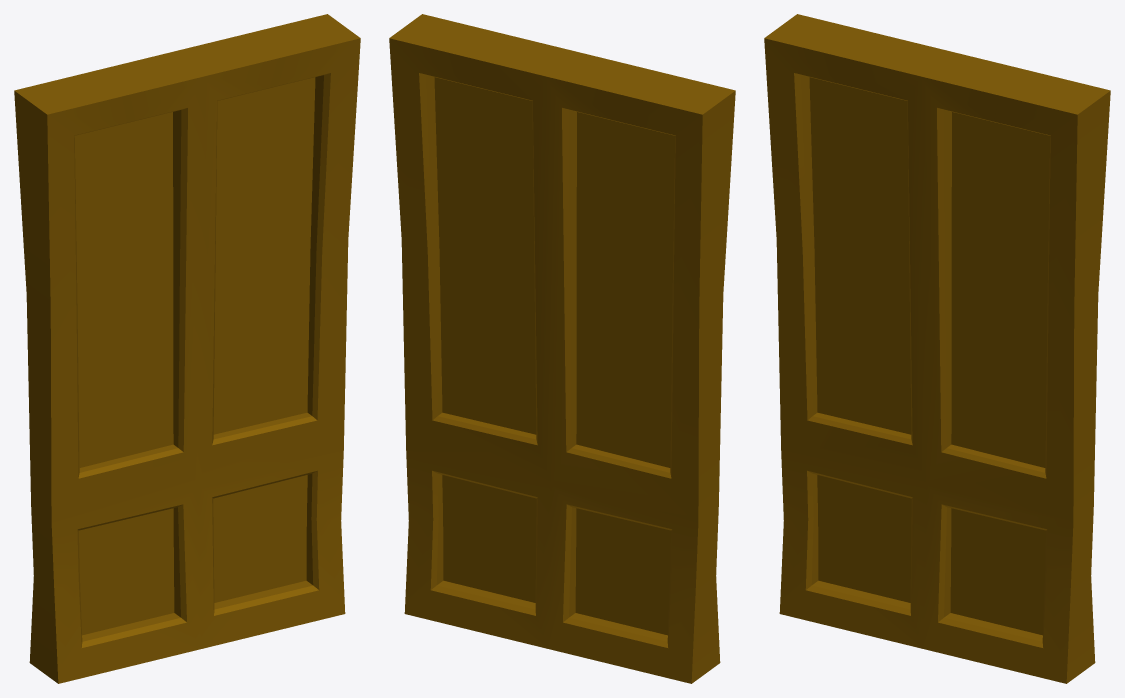
The model's file is ventana2.fbx.
The picture shows the model from 3 angles, left to right: view 1: azimuth 30°, elevation 25°; view 2: azimuth 150°, elevation 25°; view 3: azimuth 330°, elevation 25°; orthographic projection.
Visible parts, largest first — view 1: polySurface20; view 2: polySurface20; view 3: polySurface20.
Part boxes in pixels (<box>): polySurface20: <box>14,14,360,683</box>; polySurface20: <box>389,14,735,683</box>; polySurface20: <box>764,14,1110,683</box>.
Bounding box in the file's own units: 93.24 × 163 × 17.06.
